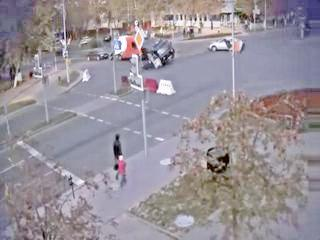Car: (140, 41, 176, 69), (114, 34, 145, 59), (210, 34, 243, 55), (87, 47, 108, 60)
Major Accident: (140, 33, 245, 70)
